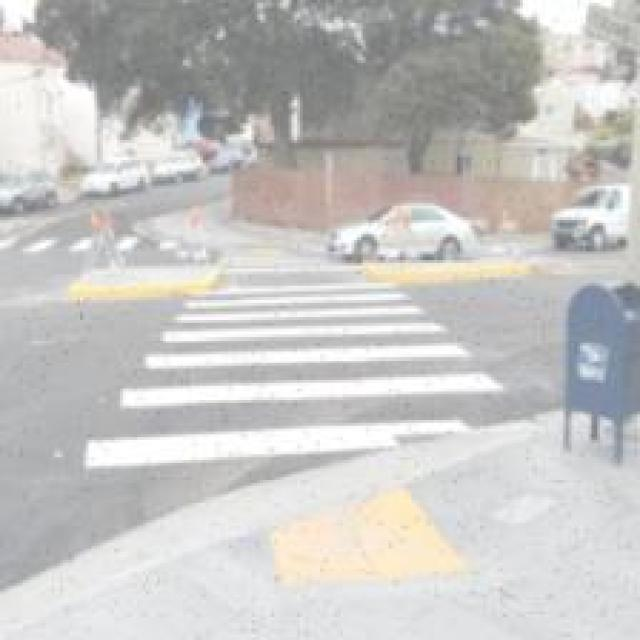walk-crossing: (99, 250, 527, 467), (3, 232, 186, 254)
